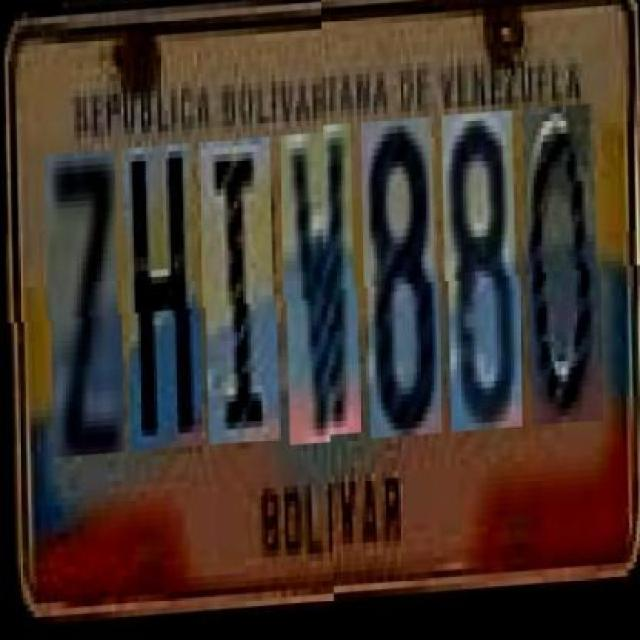8: (363, 130, 440, 452), (444, 125, 521, 447)
h: (124, 145, 201, 453)
i: (200, 141, 278, 448)
o: (524, 120, 602, 442)
w: (283, 136, 359, 450)
z: (46, 151, 123, 458)
